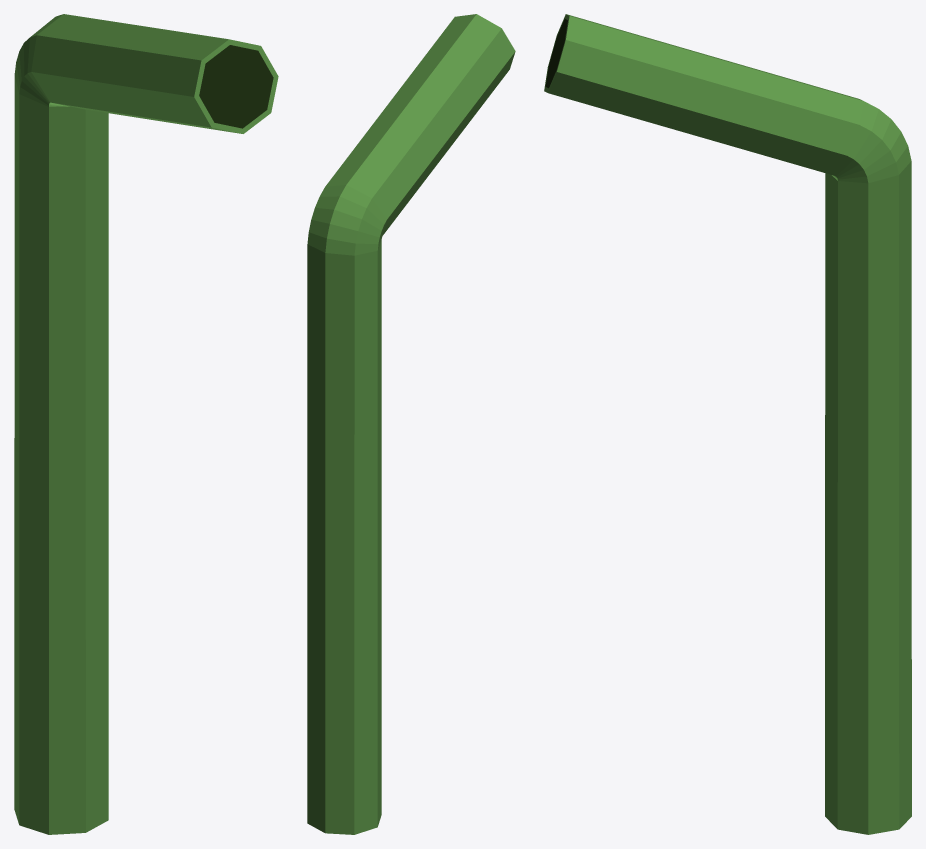
File: straw_green.fbx
3 views of the same model, side by side, from view 1: azimuth 30°, elevation 25°; view 2: azimuth 150°, elevation 25°; view 3: azimuth 270°, elevation 25° (orthographic). The views are drawn at different scales.
Parts seen in each view (by area): view 1: Cylinder.002; view 2: Cylinder.002; view 3: Cylinder.002.
Part boxes in pixels (bbox=[...]): Cylinder.002: bbox=[14, 14, 278, 834]; Cylinder.002: bbox=[307, 14, 515, 834]; Cylinder.002: bbox=[544, 14, 911, 834].
Size of the model in its own units: 126 by 1285 by 535.
